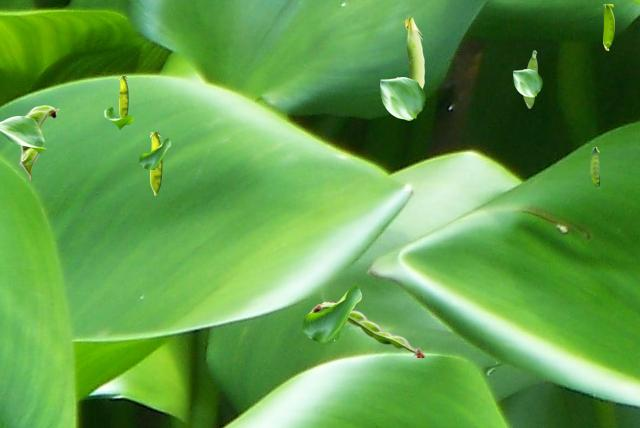pea: (309, 301, 424, 356), (19, 105, 58, 180), (403, 15, 423, 88), (523, 50, 536, 107), (150, 132, 161, 194), (603, 4, 613, 49), (590, 147, 598, 187), (119, 76, 127, 116)
